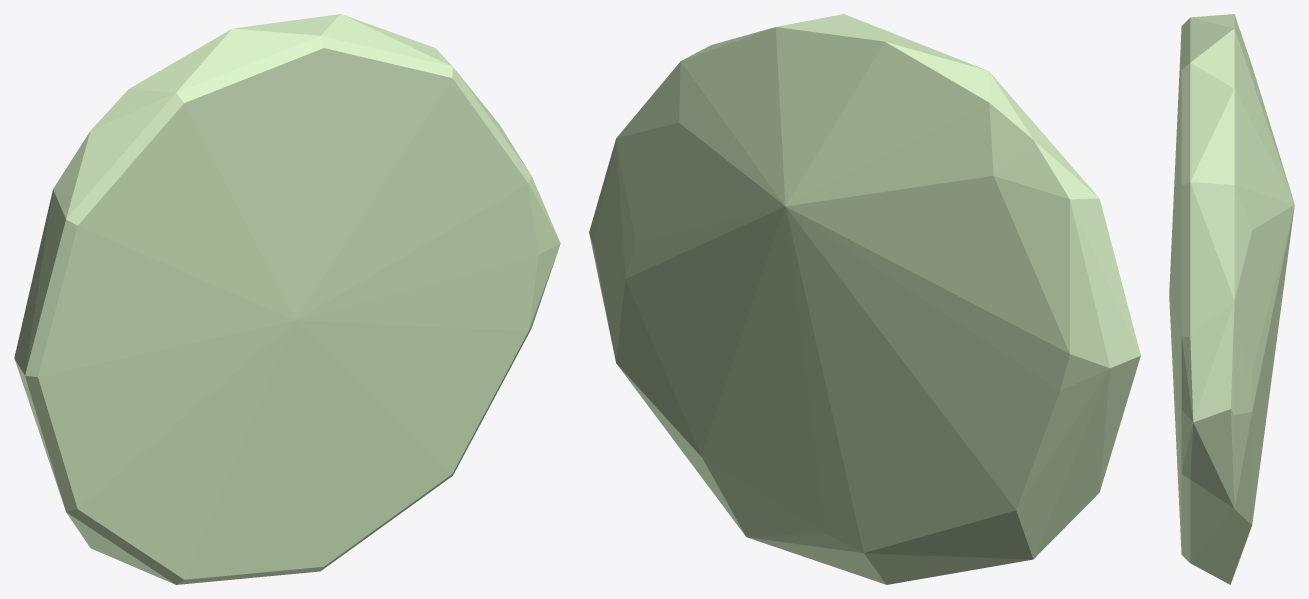
The model's file is kuka_URDF_link8_resp_coll_2.dae.
3 renders of one model, left to right at view 1: azimuth 30°, elevation 25°; view 2: azimuth 150°, elevation 25°; view 3: azimuth 270°, elevation 25°, orthographic. The views are drawn at different scales.
Parts seen in each view (by area): view 1: Node_0000020FCC590AE0; view 2: Node_0000020FCC590AE0; view 3: Node_0000020FCC590AE0.
Boxes of the visible parts, left/top/right/bottom form: Node_0000020FCC590AE0: left=14, top=14, right=560, bottom=584; Node_0000020FCC590AE0: left=589, top=14, right=1140, bottom=584; Node_0000020FCC590AE0: left=1169, top=14, right=1294, bottom=584.
Size of the model in its own units: 0.0654 by 0.0632 by 0.0142.
